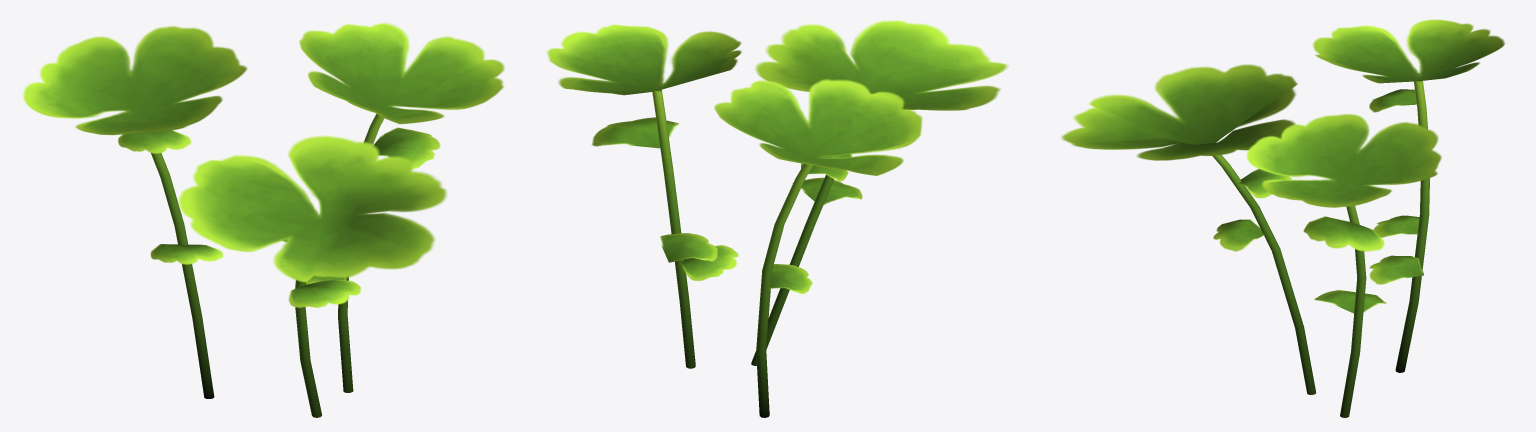
File: clover.glb
3 renders of one model, left to right at view 1: azimuth 30°, elevation 25°; view 2: azimuth 150°, elevation 25°; view 3: azimuth 270°, elevation 25°, orthographic. The views are drawn at different scales.
Parts seen in each view (by area): view 1: clover.source; view 2: clover.source; view 3: clover.source.
Boxes of the visible parts, x1,y1,x2,y2 form: clover.source: [23, 23, 504, 417]; clover.source: [547, 20, 1008, 417]; clover.source: [1061, 19, 1504, 417].
Bounding box in the file's own units: 1.33 × 1 × 1.39.
Materials: 1 (1 with a texture image).
